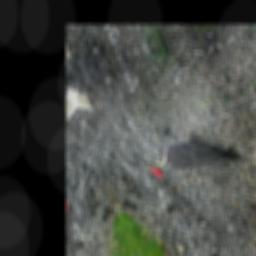Woodpecker: (136, 112, 244, 197)
